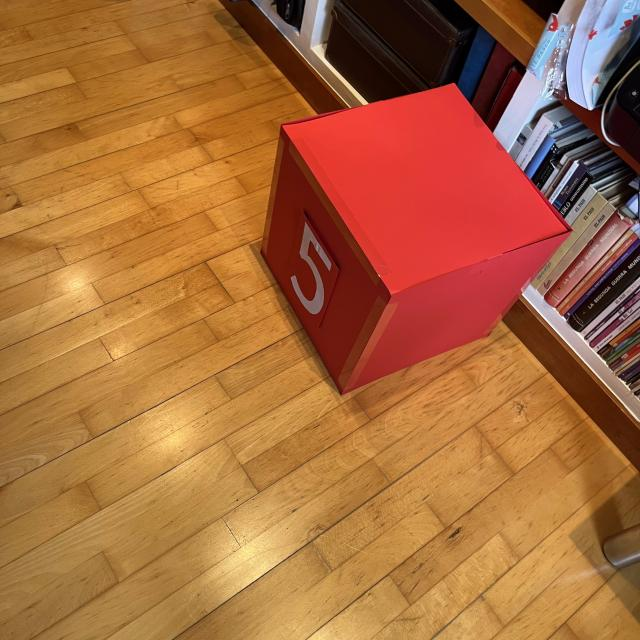box: (258, 81, 572, 398)
